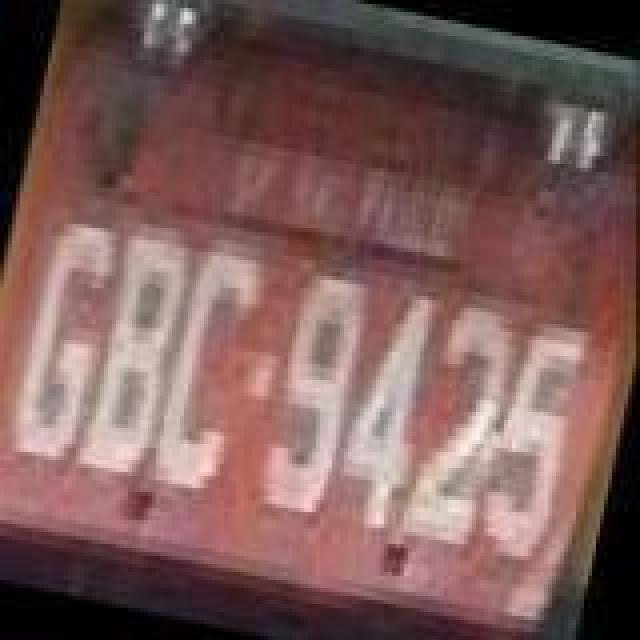2: (404, 296, 520, 552)
4: (328, 284, 444, 532)
5: (476, 318, 592, 570)
9: (254, 266, 374, 518)
B: (76, 232, 192, 488)
C: (144, 242, 268, 502)
G: (2, 214, 122, 474)
